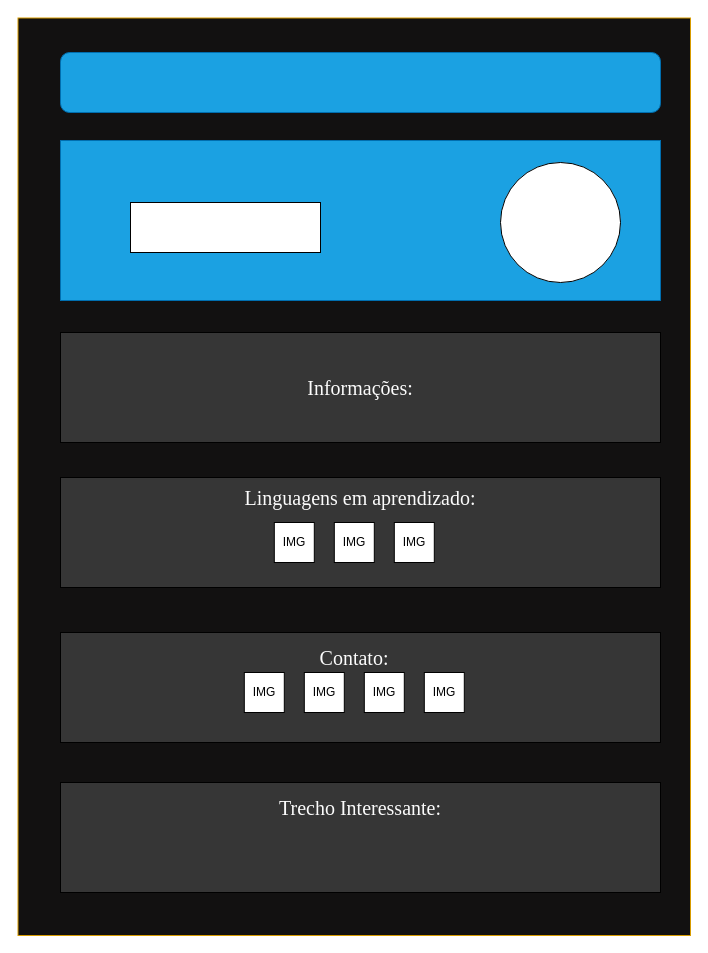
The diagram is 708 pixels wide and 953 high, and some of its shapes have lost their labels. Each missing label, with the box of its shape:
Imagem: (500, 162, 620, 282)
Nome: (130, 202, 320, 252)
Título: (60, 52, 660, 112)
